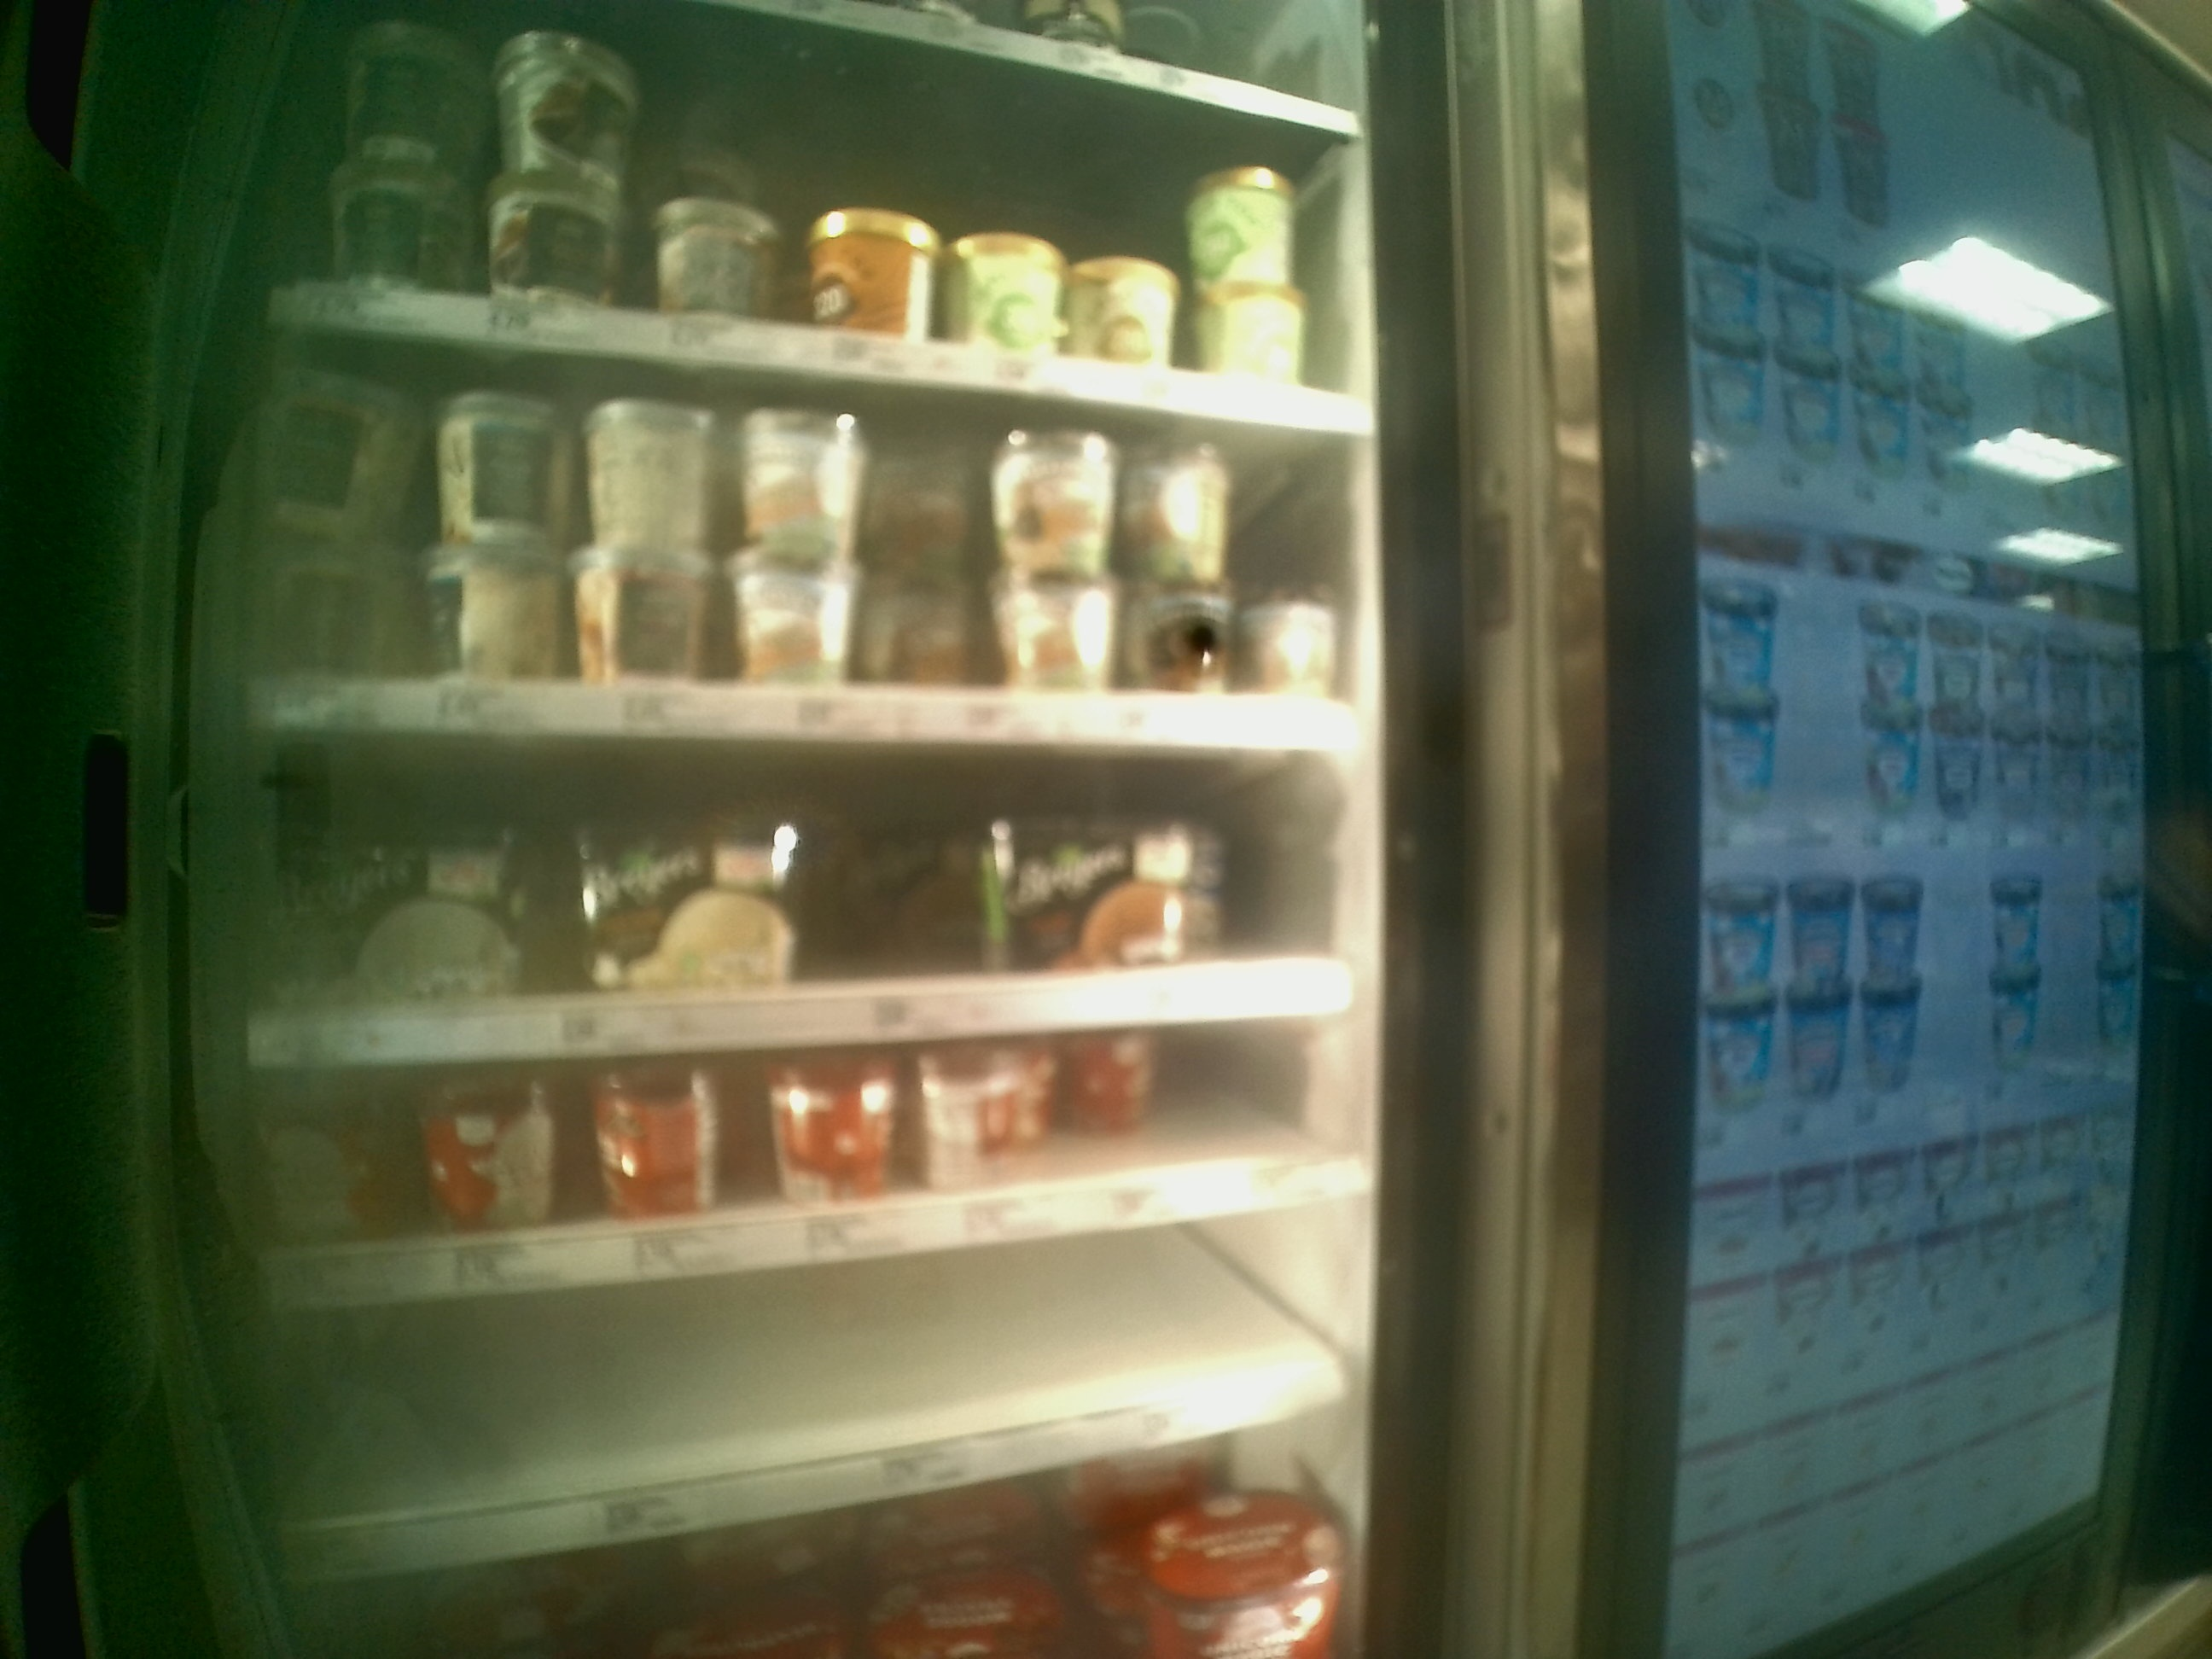shelf: (258, 315, 1383, 737), (246, 734, 1385, 1080)
